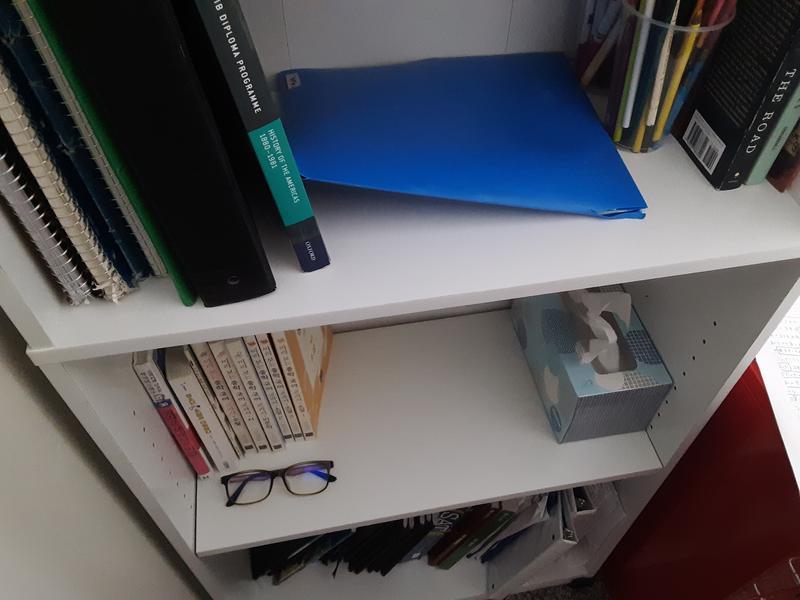glasses: (219, 460, 337, 508)
